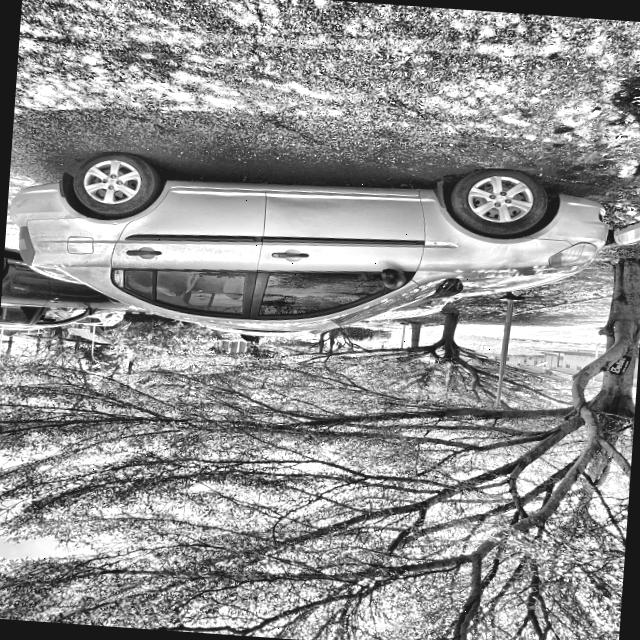car: (0, 120, 621, 365)
